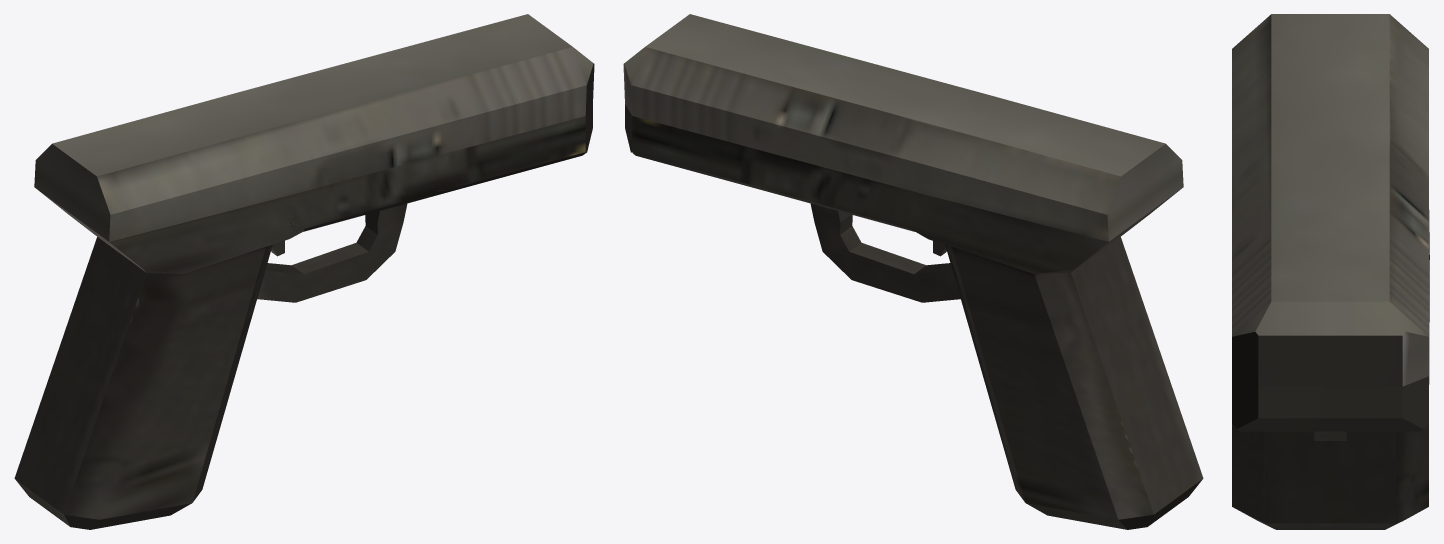
The model's file is Gun.fbx.
3 views of the same model, side by side, from view 1: azimuth 30°, elevation 25°; view 2: azimuth 150°, elevation 25°; view 3: azimuth 270°, elevation 25° (orthographic). The views are drawn at different scales.
Visible parts, largest first — view 1: Gun; view 2: Gun; view 3: Gun.
Part boxes in pixels (x1,y1,x2,y2): Gun: (14,14,594,529); Gun: (623,14,1203,529); Gun: (1232,14,1429,529).
Bounding box in the file's own units: 61.63 × 40.87 × 15.2.
